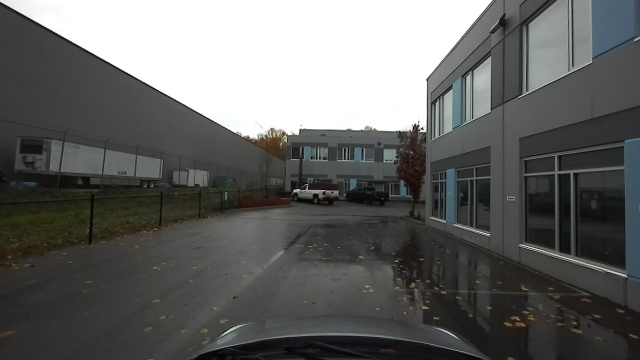car: (291, 184, 343, 204), (347, 186, 390, 205)
